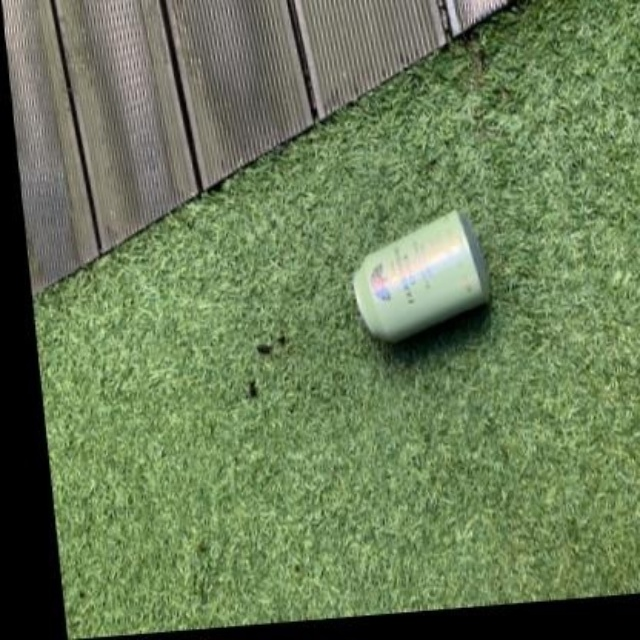trash: (354, 211, 488, 340)
